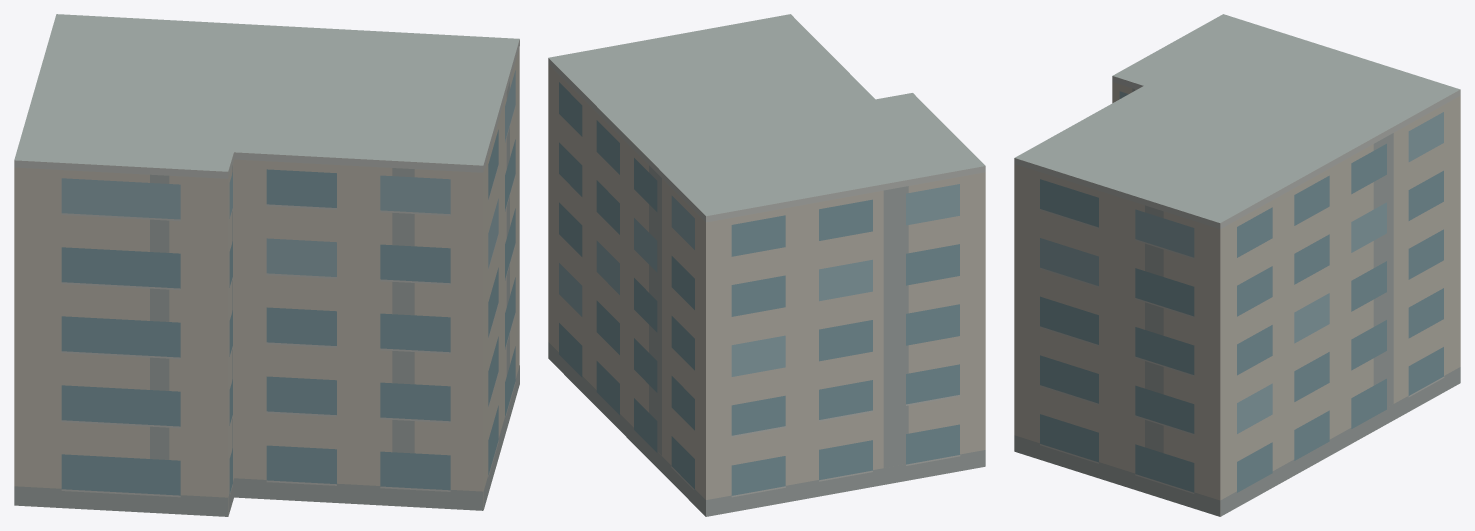
File: survey-upis-32801249.glb
3 views of the same model, side by side, from view 1: azimuth 30°, elevation 25°; view 2: azimuth 150°, elevation 25°; view 3: azimuth 270°, elevation 25° (orthographic). The views are drawn at different scales.
Visible parts, largest first — view 1: survey-upis-32801249.tmp; view 2: survey-upis-32801249.tmp; view 3: survey-upis-32801249.tmp.
Boxes of the visible parts, bbox=[...] form: survey-upis-32801249.tmp: bbox=[14, 14, 519, 516]; survey-upis-32801249.tmp: bbox=[548, 14, 985, 516]; survey-upis-32801249.tmp: bbox=[1014, 14, 1460, 516].
Size of the model in its own units: 18.04 by 11.8 by 16.26.
